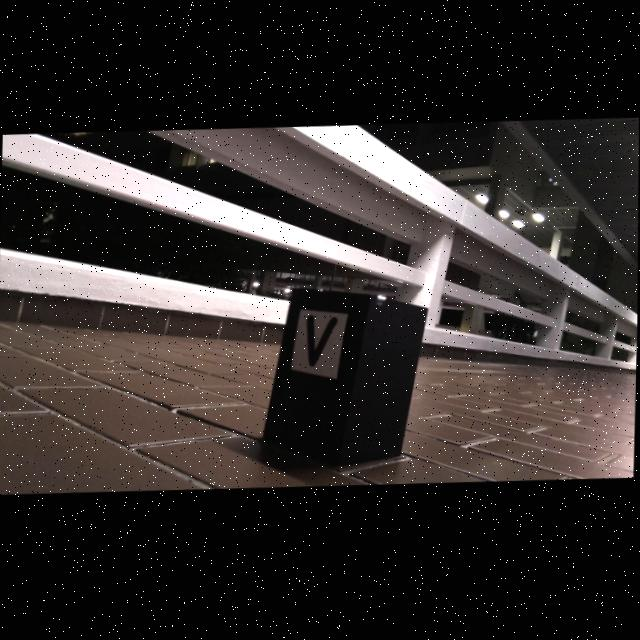V: (306, 317, 338, 368)
